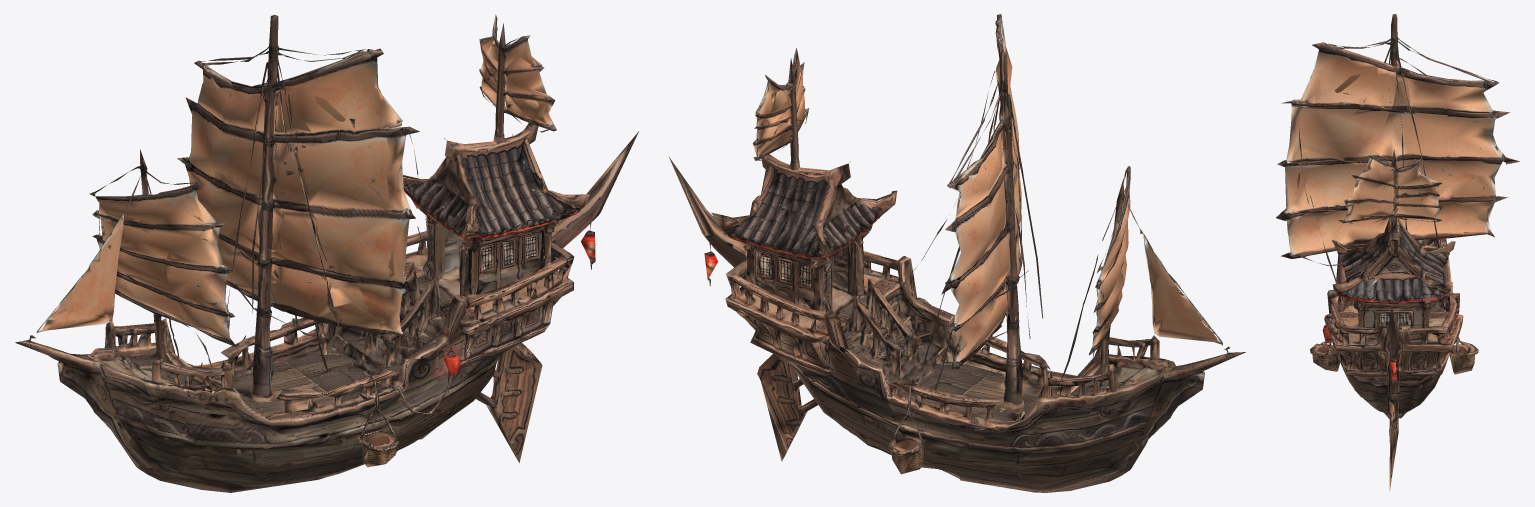
Rendered from barco.glb.
3 renders of one model, left to right at view 1: azimuth 30°, elevation 25°; view 2: azimuth 150°, elevation 25°; view 3: azimuth 270°, elevation 25°, orthographic. The views are drawn at different scales.
Visible parts, largest first — view 1: arvore1; view 2: arvore1; view 3: arvore1.
Boxes of the visible parts, x1,y1,x2,y2 form: arvore1: (15, 14, 638, 492); arvore1: (668, 14, 1245, 492); arvore1: (1276, 14, 1519, 491).
Size of the model in its own units: 1.9 by 1.46 by 0.8399.
Materials: 1 (1 with a texture image).
